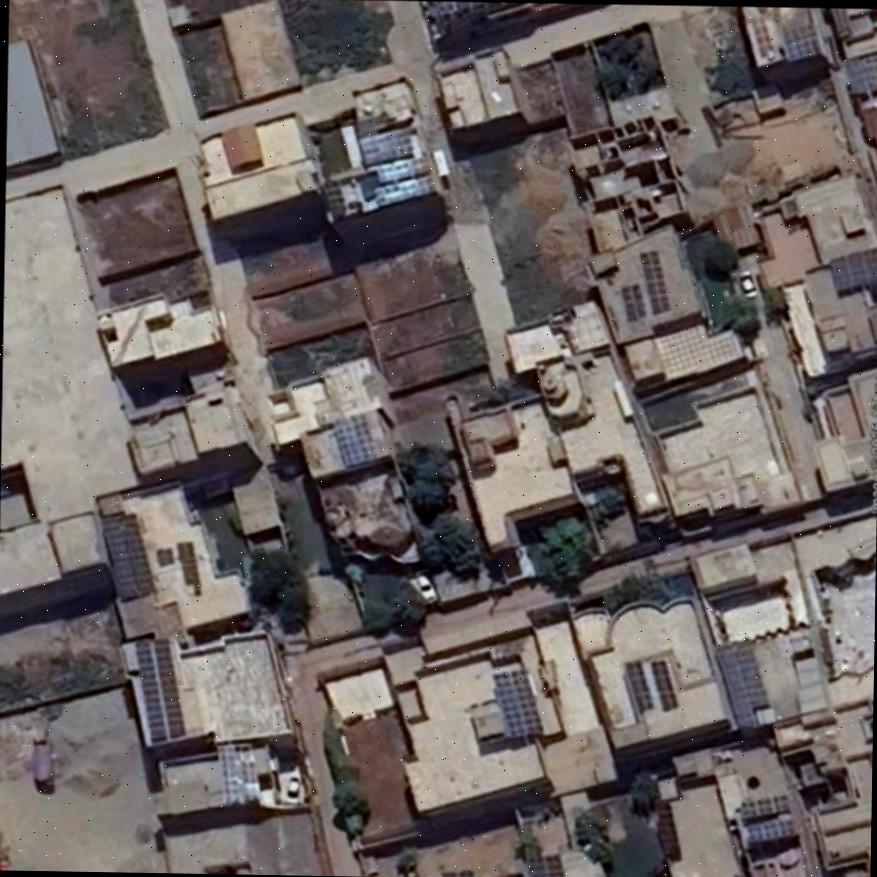Solarpanel: (137, 637, 182, 741), (719, 647, 774, 730), (103, 525, 151, 597), (492, 668, 539, 736), (330, 412, 375, 466), (357, 125, 415, 163), (372, 173, 432, 208), (826, 248, 877, 289), (638, 251, 667, 311), (647, 659, 675, 709), (375, 155, 425, 183), (624, 660, 649, 712), (844, 55, 877, 90), (784, 27, 815, 60), (618, 284, 642, 318), (527, 856, 562, 877)
